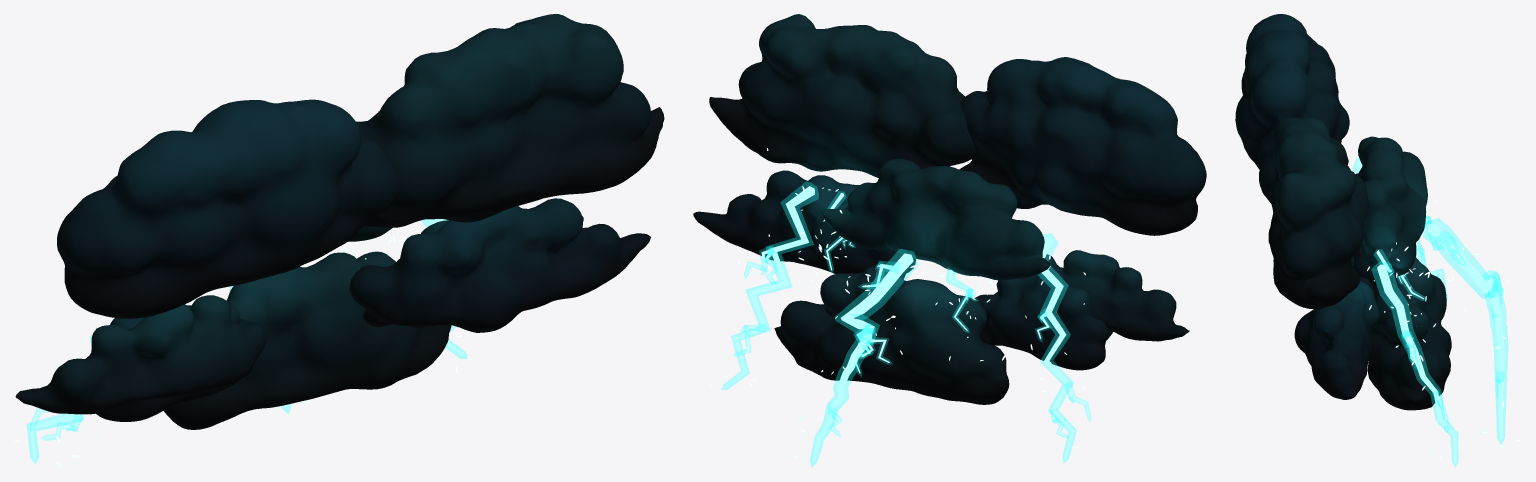
Rendered from storm_abyss.glb.
3 renders of one model, left to right at view 1: azimuth 30°, elevation 25°; view 2: azimuth 150°, elevation 25°; view 3: azimuth 270°, elevation 25°, orthographic. The views are drawn at different scales.
Visible parts, largest first — view 1: Clouds, Bolt_4; view 2: Clouds, Bolt_3, Bolt_1, Bolt_4, Bolt_5, Bolt_2; view 3: Clouds, Bolt_3, Bolt_1, Bolt_2, Bolt_4.
Part boxes in pixels (x1,y1,x2,y2): Clouds: (15, 14, 664, 429); Bolt_4: (14, 317, 99, 467); Clouds: (693, 14, 1206, 404); Bolt_3: (782, 249, 918, 466); Bolt_1: (710, 148, 838, 389); Bolt_4: (1002, 219, 1091, 462); Bolt_5: (922, 268, 993, 361); Bolt_2: (795, 187, 855, 286); Clouds: (1235, 14, 1451, 410); Bolt_3: (1423, 218, 1520, 447); Bolt_1: (1367, 242, 1473, 467); Bolt_2: (1369, 246, 1436, 327); Bolt_4: (1352, 153, 1448, 299).
Bounding box in the file's own units: 15.46 × 10.72 × 8.13.
